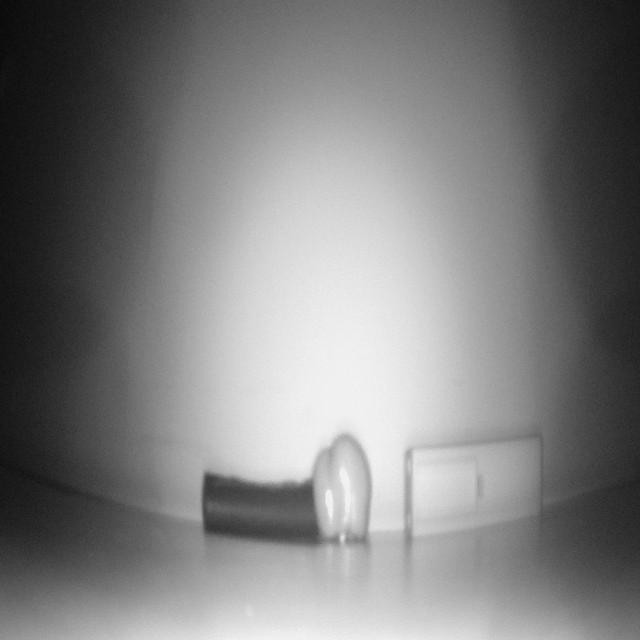targets: (406, 433, 542, 538), (202, 473, 316, 538), (310, 434, 372, 547)
